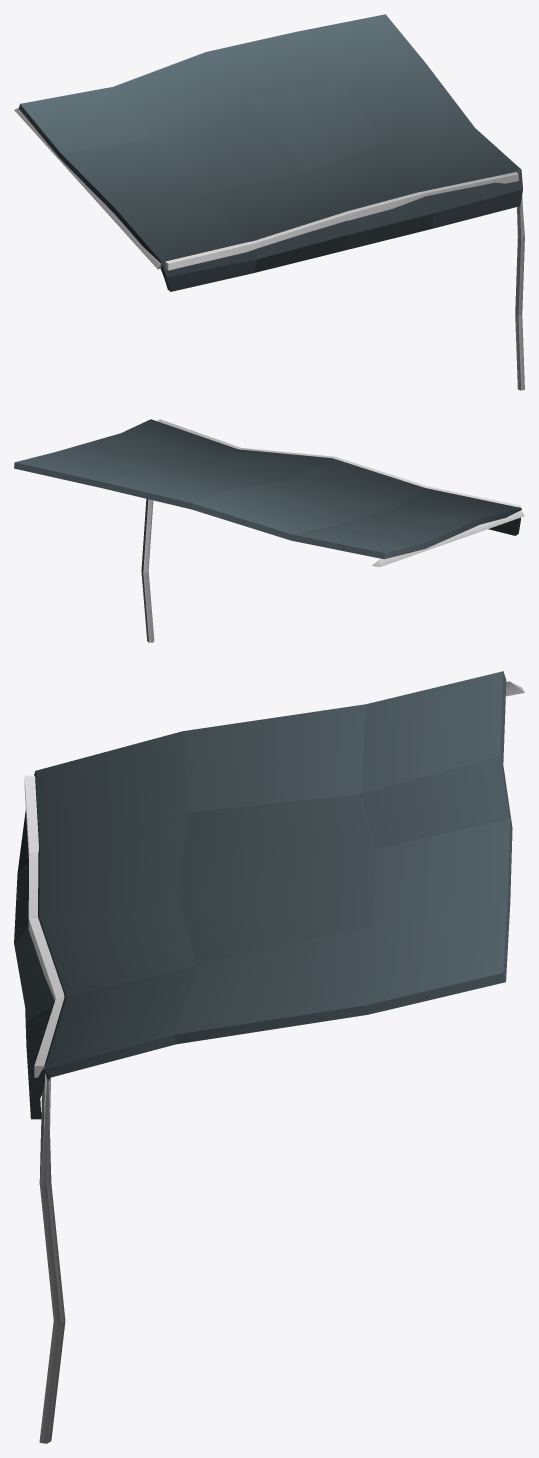
The model's file is SM_Sunscreen.fbx.
3 views of the same model, one above another, from view 1: azimuth 30°, elevation 25°; view 2: azimuth 150°, elevation 25°; view 3: azimuth 270°, elevation 25° (orthographic). The views are drawn at different scales.
Visible parts, largest first — view 1: Sunscreen_mash; view 2: Sunscreen_mash; view 3: Sunscreen_mash.
Boxes of the visible parts, bbox=[...] form: Sunscreen_mash: bbox=[14, 14, 524, 390]; Sunscreen_mash: bbox=[14, 419, 524, 642]; Sunscreen_mash: bbox=[14, 671, 524, 1443].
Size of the model in its own units: 3.41 by 2.46 by 2.39.
